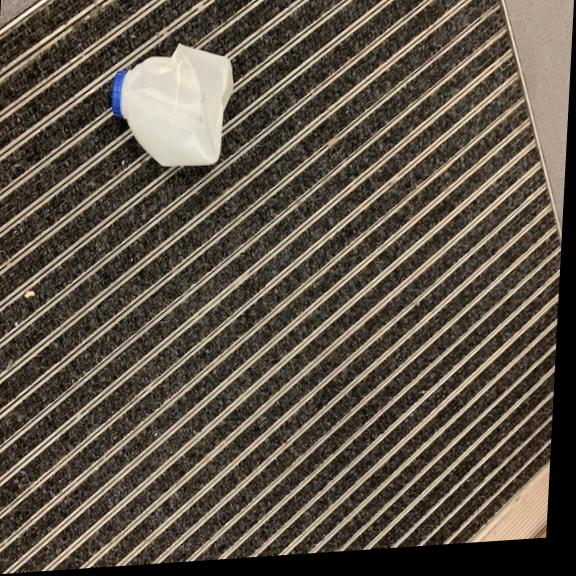Plastik: (103, 41, 236, 171)
